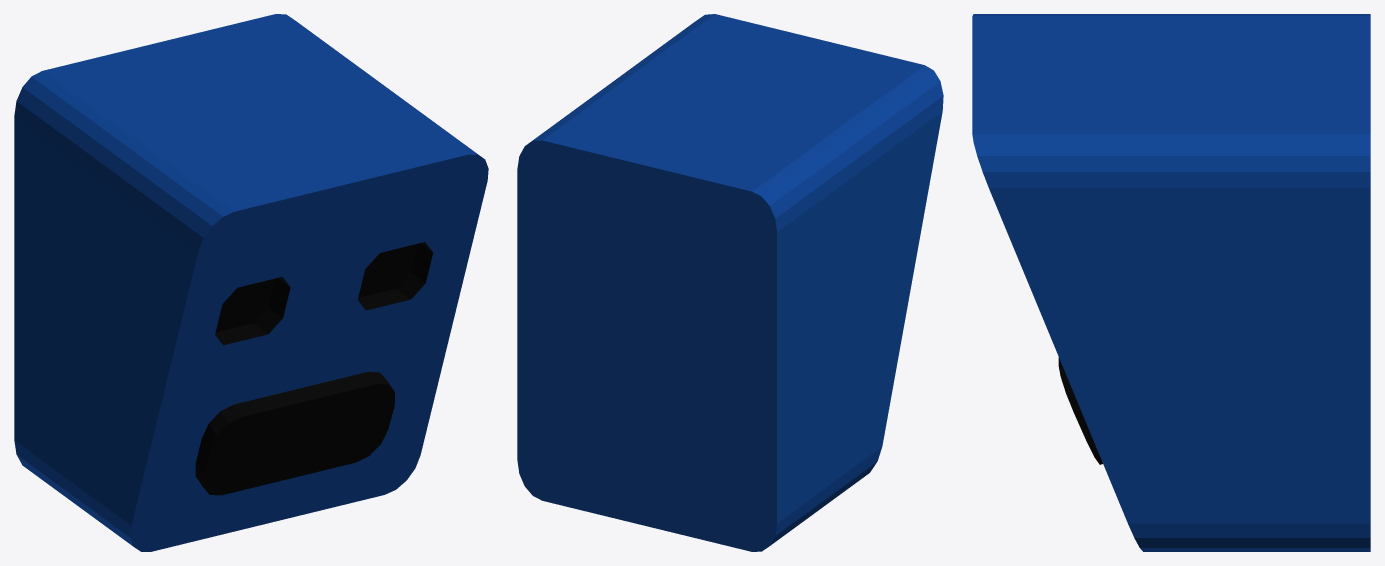
The model's file is Chargingport2.fbx.
3 views of the same model, side by side, from view 1: azimuth 30°, elevation 25°; view 2: azimuth 150°, elevation 25°; view 3: azimuth 270°, elevation 25° (orthographic). The views are drawn at different scales.
Visible parts, largest first — view 1: Cube.013; view 2: Cube.013; view 3: Cube.013.
Part boxes in pixels (bbox=[...]): Cube.013: bbox=[14, 14, 488, 551]; Cube.013: bbox=[517, 14, 943, 551]; Cube.013: bbox=[972, 14, 1370, 551].
Bounding box in the file's own units: 174 × 230 × 200.
